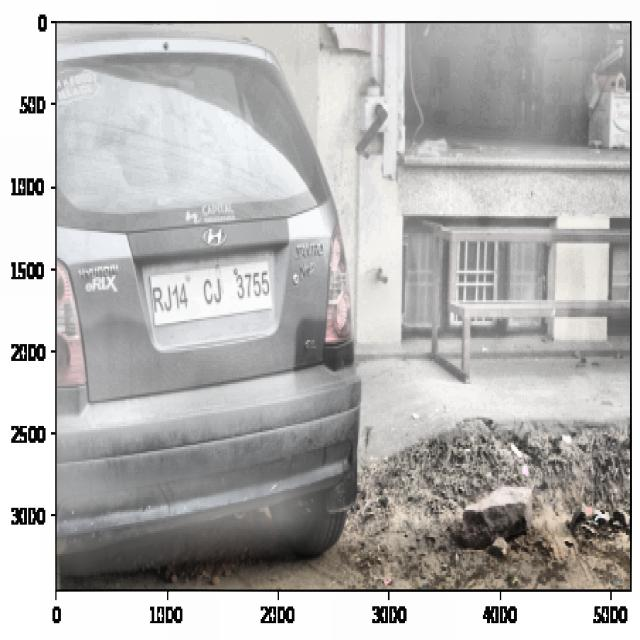license_plate: (147, 266, 272, 316)
